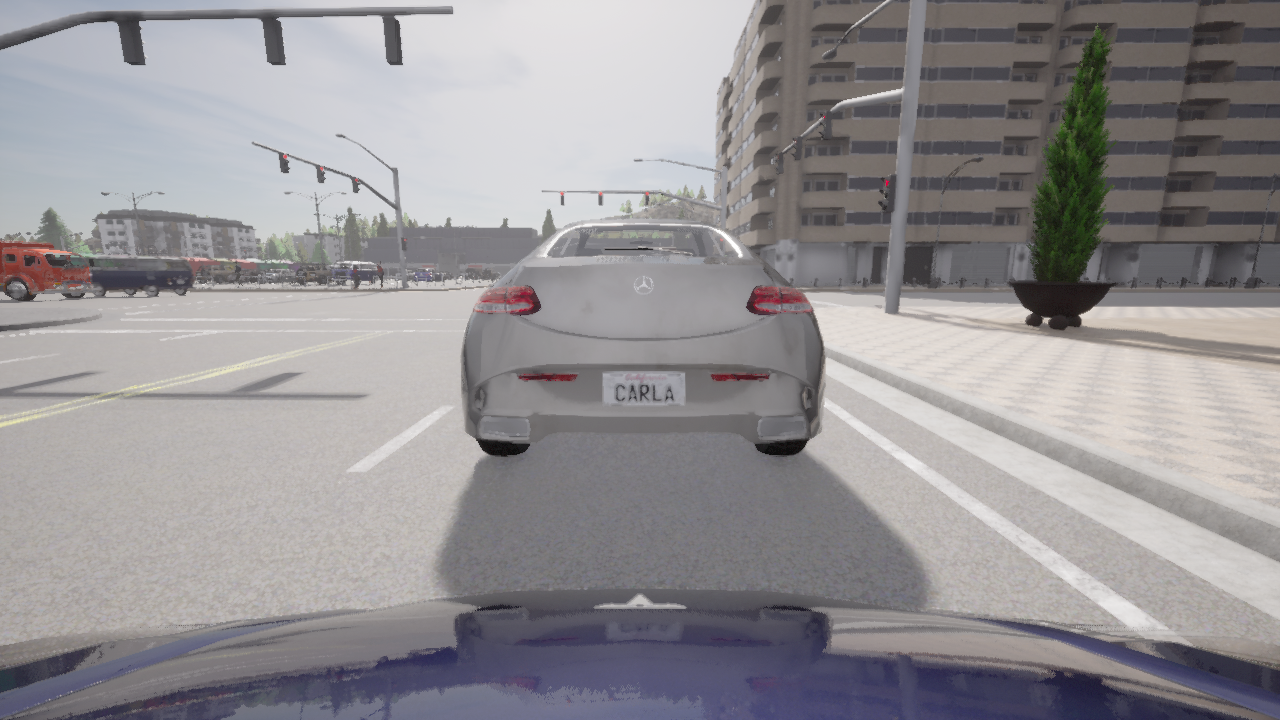cyclist: (0, 588, 1279, 719), (461, 219, 824, 455), (84, 256, 195, 297), (332, 261, 377, 284), (295, 264, 345, 284), (194, 265, 233, 283), (258, 269, 297, 283), (227, 269, 264, 283), (414, 268, 444, 281), (481, 268, 500, 279), (394, 270, 413, 280), (465, 268, 481, 279), (260, 267, 281, 273), (438, 271, 452, 279), (329, 265, 333, 266)
pedestrian: (233, 261, 243, 287), (376, 260, 384, 288), (352, 269, 357, 288), (366, 272, 370, 288)
